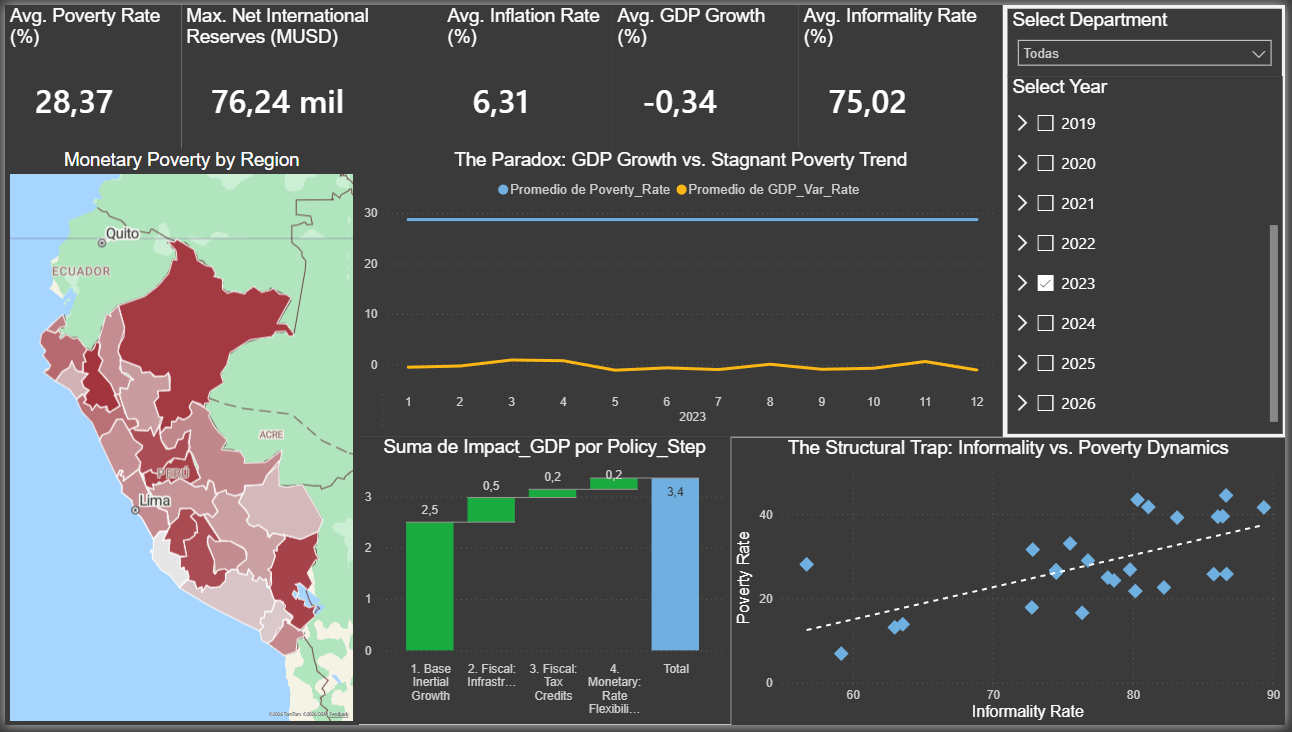

The page's visual inventory and layout, read from the dashboard file:
{"tool":"powerbi","page":{"name":"Perú Policy Dashboard","canvas":[1280,720],"ordinal":0},"visuals":[{"type":"cardVisual","title":"Max. Net International Reserves (MUSD)","fields":{"Data":["Max(Fact_Macro_Indicators.Net_Int_Reserves_MUSD)"]},"box":[176.2,0,261.2,143.8],"z":0},{"type":"cardVisual","title":"Avg. GDP Growth (%)","fields":{"Data":["Avg(Fact_Macro_Indicators.GDP_Var_Rate)"]},"box":[608,0,186,144],"z":1000},{"type":"cardVisual","title":"Avg. Inflation Rate (%)","fields":{"Data":["Avg(Fact_Macro_Indicators.Inflation_Rate)"]},"box":[438,0,170,144],"z":2000},{"type":"cardVisual","title":"Avg. Poverty Rate (%)","fields":{"Data":["Avg(Fact_Regional_Development.Poverty_Rate)"]},"box":[0,0,176.2,143.8],"z":3000},{"type":"cardVisual","title":"Avg. Informality Rate (%)","fields":{"Data":["Avg(Fact_Regional_Development.Informality_Rate)"]},"box":[794,0,204,144],"z":4000},{"type":"lineChart","title":"The Paradox: GDP Growth vs. Stagnant Poverty Trend","fields":{"Category":["Dim_Calendar.Year_Num","Dim_Calendar.Month_Num"],"Y":["Avg(Fact_Regional_Development.Poverty_Rate)","Avg(Fact_Macro_Indicators.GDP_Var_Rate)"]},"box":[354,144,644,288],"z":5000},{"type":"listSlicer","title":"Select Year","fields":{"Values":["Dim_Calendar.Year_Num","Dim_Calendar.Month_Num"]},"box":[1002.5,71.2,275,357.5],"z":6000},{"type":"azureMap","title":"Monetary Poverty by Region","fields":{"Category":["Dim_Department.Pais","Dim_Department.Region_Mapa"]},"box":[0,143.3,353.3,576.7],"z":7000},{"type":"slicer","title":"Select Department","fields":{"Values":["Dim_Department.Department_Name"]},"box":[1002,4,274,68],"z":8000},{"type":"waterfallChart","title":"Policy Proposal & Multiplier Effect","fields":{"Category":["Policy_Projection.Policy_Step"],"Y":["Sum(Policy_Projection.Impact_GDP)"]},"box":[353.8,431.2,440,288.8],"z":9000},{"type":"scatterChart","title":"The Structural Trap: Informality vs. Poverty Dynamics","fields":{"X":["Avg(Fact_Regional_Development.Informality_Rate)"],"Y":["Avg(Fact_Regional_Development.Poverty_Rate)"],"Category":["Dim_Department.Department_Name"]},"box":[793.8,432.5,486.2,287.5],"z":10000}]}

Visuals, with their boxes in screenshot pixels (x1, y1, x2, y2), scaled from the page's 1280x720 canvas onto the 1292x732 screenshot:
"Max. Net International Reserves (MUSD)" cardVisual: (178,0,442,146)
"Avg. GDP Growth (%)" cardVisual: (614,0,801,146)
"Avg. Inflation Rate (%)" cardVisual: (442,0,614,146)
"Avg. Poverty Rate (%)" cardVisual: (0,0,178,146)
"Avg. Informality Rate (%)" cardVisual: (801,0,1007,146)
"The Paradox: GDP Growth vs. Stagnant Poverty Trend" lineChart: (357,146,1007,439)
"Select Year" listSlicer: (1012,72,1289,436)
"Monetary Poverty by Region" azureMap: (0,146,357,731)
"Select Department" slicer: (1011,4,1288,73)
"Policy Proposal & Multiplier Effect" waterfallChart: (357,438,801,731)
"The Structural Trap: Informality vs. Poverty Dynamics" scatterChart: (801,440,1291,731)
